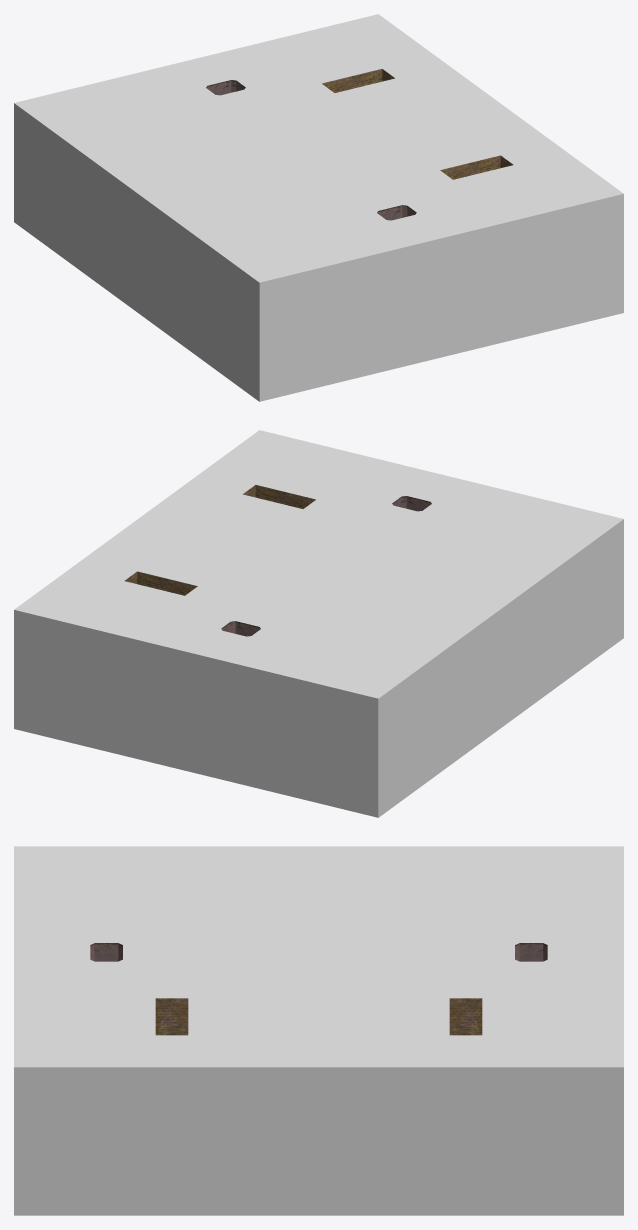
File: Dragonfly_Xanthate.fbx
3 views of the same model, one above another, from view 1: azimuth 30°, elevation 25°; view 2: azimuth 150°, elevation 25°; view 3: azimuth 270°, elevation 25° (orthographic). The views are drawn at different scales.
Parts seen in each view (by area): view 1: ShadowCaster, Concrete, Metal; view 2: ShadowCaster, Concrete, Metal; view 3: ShadowCaster, Concrete, Metal.
Boxes of the visible parts, left/top/right/bottom form: ShadowCaster: left=14, top=14, right=623, bottom=401; Concrete: left=322, top=69, right=513, bottom=179; Metal: left=206, top=80, right=416, bottom=220; ShadowCaster: left=14, top=430, right=623, bottom=817; Concrete: left=124, top=485, right=315, bottom=595; Metal: left=221, top=496, right=431, bottom=636; ShadowCaster: left=14, top=846, right=623, bottom=1215; Concrete: left=155, top=998, right=482, bottom=1035; Metal: left=90, top=943, right=547, bottom=961.
Size of the model in its own units: 48 by 15 by 56.
